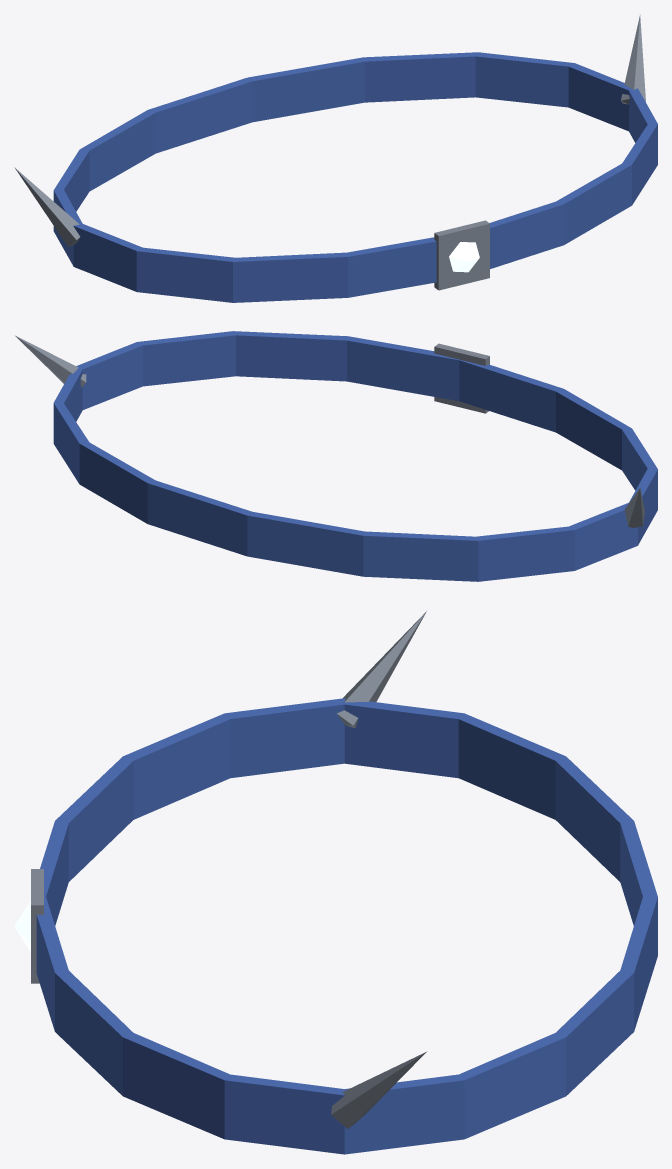
File: armor_lord_head_rare_orc.glb
3 views of the same model, one above another, from view 1: azimuth 30°, elevation 25°; view 2: azimuth 150°, elevation 25°; view 3: azimuth 270°, elevation 25° (orthographic). The views are drawn at different scales.
Visible parts, largest first — view 1: armor_lord_head_rare_orc__head; view 2: armor_lord_head_rare_orc__head; view 3: armor_lord_head_rare_orc__head.
Boxes of the visible parts, left/top/right/bottom form: armor_lord_head_rare_orc__head: left=14, top=14, right=657, bottom=302; armor_lord_head_rare_orc__head: left=15, top=331, right=657, bottom=581; armor_lord_head_rare_orc__head: left=14, top=611, right=657, bottom=1154.
Bounding box in the file's own units: 97.55 × 13.9 × 60.21.
